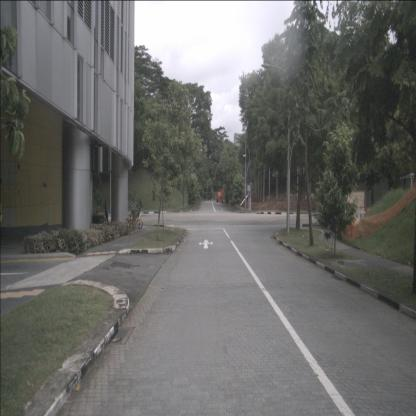human-pedestrian-adult: (104, 200, 109, 226)
movable_object-barrier: (345, 210, 366, 228), (339, 220, 355, 241)
vehicle-bicycle: (126, 211, 143, 229)
